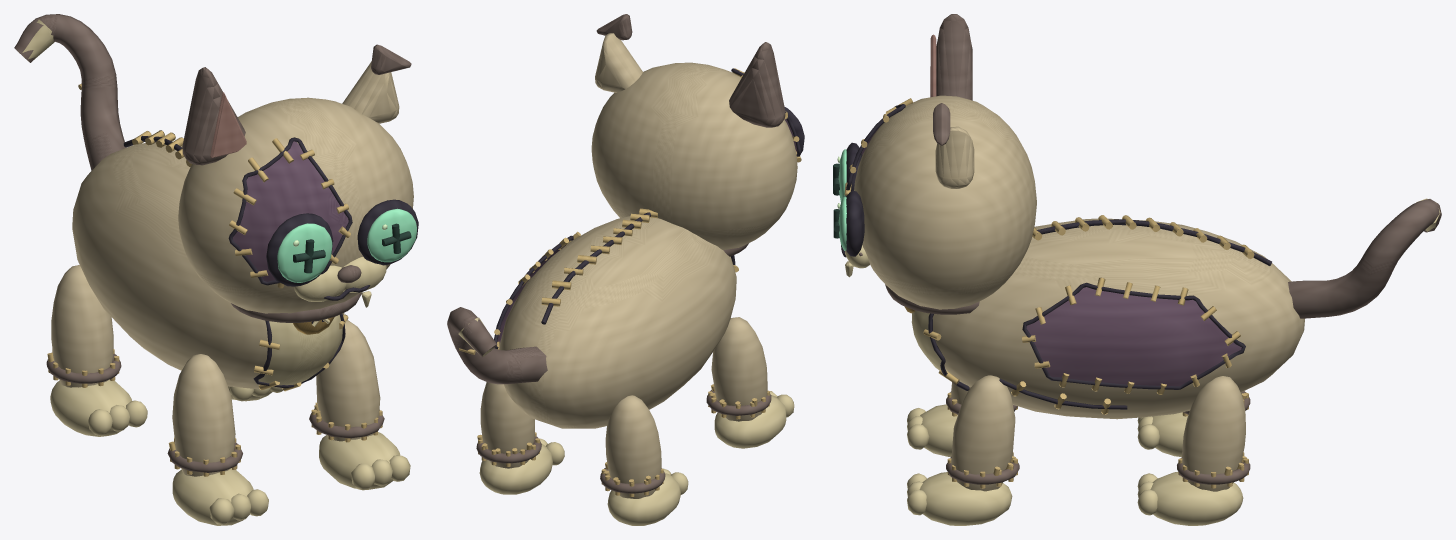
File: 01_cat.glb
The picture shows the model from 3 angles, left to right: view 1: azimuth 30°, elevation 25°; view 2: azimuth 150°, elevation 25°; view 3: azimuth 270°, elevation 25°; orthographic projection. The views are drawn at different scales.
Parts seen in each view (by area): view 1: 01_cat__head, 01_cat__body, 01_cat__fore_L, 01_cat__hind_L, 01_cat__fore_R, 01_cat__extra, 01_cat__hind_R; view 2: 01_cat__body, 01_cat__head, 01_cat__hind_L, 01_cat__fore_L, 01_cat__hind_R, 01_cat__extra; view 3: 01_cat__body, 01_cat__head, 01_cat__hind_R, 01_cat__fore_R, 01_cat__extra, 01_cat__fore_L, 01_cat__hind_L.
Part boxes in pixels (x1,y1,x2,y2): 01_cat__head: (178,44,418,322); 01_cat__body: (72,130,348,391); 01_cat__fore_L: (167,354,268,525); 01_cat__hind_L: (46,265,147,436); 01_cat__fore_R: (309,320,410,490); 01_cat__extra: (14,14,126,170); 01_cat__hind_R: (228,386,283,401); 01_cat__body: (494,208,738,428); 01_cat__head: (591,14,804,256); 01_cat__hind_L: (600,395,688,525); 01_cat__fore_L: (706,317,794,448); 01_cat__hind_R: (476,382,564,494); 01_cat__extra: (447,307,547,384); 01_cat__body: (904,215,1304,419); 01_cat__head: (833,14,1036,314); 01_cat__hind_R: (1137,376,1250,525); 01_cat__fore_R: (907,375,1019,525); 01_cat__extra: (1288,198,1441,318); 01_cat__fore_L: (907,382,1017,456); 01_cat__hind_L: (1137,391,1250,456).
Bounding box in the file's own units: 1.25 × 2.47 × 3.14.
Materials: 1 (1 with a texture image).
